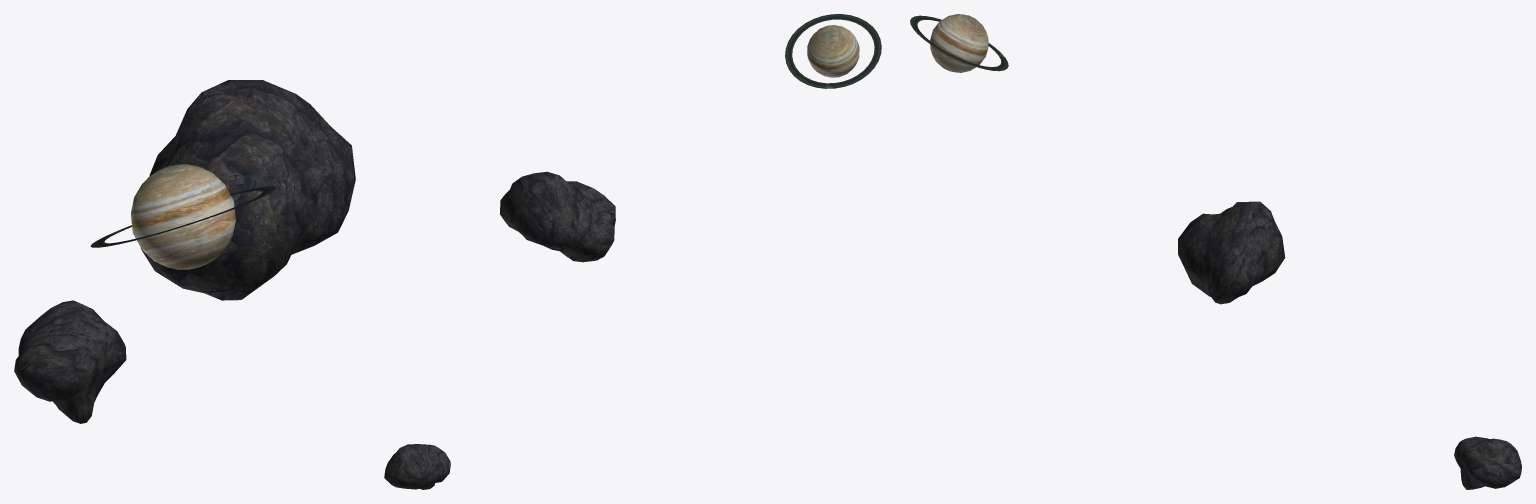
File: stg610_02.obj
3 renders of one model, left to right at view 1: azimuth 30°, elevation 25°; view 2: azimuth 150°, elevation 25°; view 3: azimuth 270°, elevation 25°, orthographic. The views are drawn at different scales.
Parts seen in each view (by area): view 1: polygon1, polygon0, polygon2, polygon3; view 2: polygon1, polygon0, polygon2, polygon3; view 3: polygon1, polygon0, polygon2, polygon3.
Boxes of the visible parts, left/top/right/bottom form: polygon1: left=141, top=80, right=355, bottom=300; polygon0: left=14, top=300, right=126, bottom=423; polygon2: left=131, top=164, right=235, bottom=269; polygon3: left=90, top=186, right=275, bottom=247; polygon1: left=500, top=171, right=615, bottom=262; polygon0: left=384, top=444, right=450, bottom=489; polygon2: left=807, top=25, right=859, bottom=77; polygon3: left=785, top=14, right=881, bottom=88; polygon1: left=1178, top=201, right=1285, bottom=304; polygon0: left=1454, top=436, right=1521, bottom=489; polygon2: left=930, top=14, right=988, bottom=72; polygon3: left=910, top=15, right=1008, bottom=71.
Size of the model in its own units: 3252 by 4200 by 6195.
3 materials, 3 textured.
